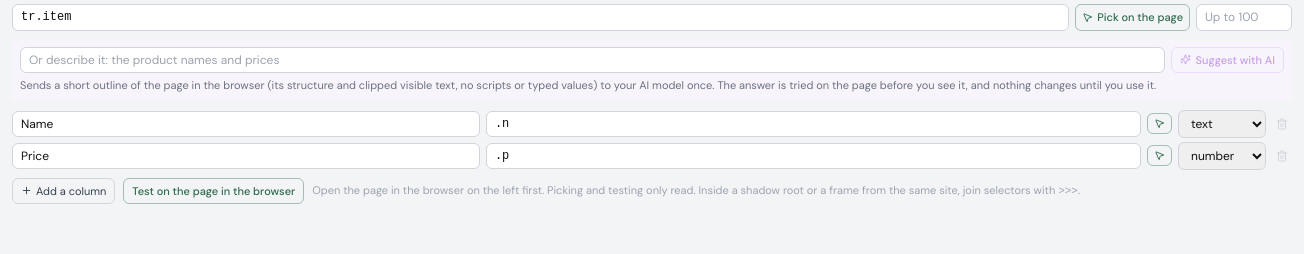
Test: ScrapeEditor › shows a refusal in words
Click the button "Test on the page in the browser" at (214, 191), box [123, 178, 304, 204]
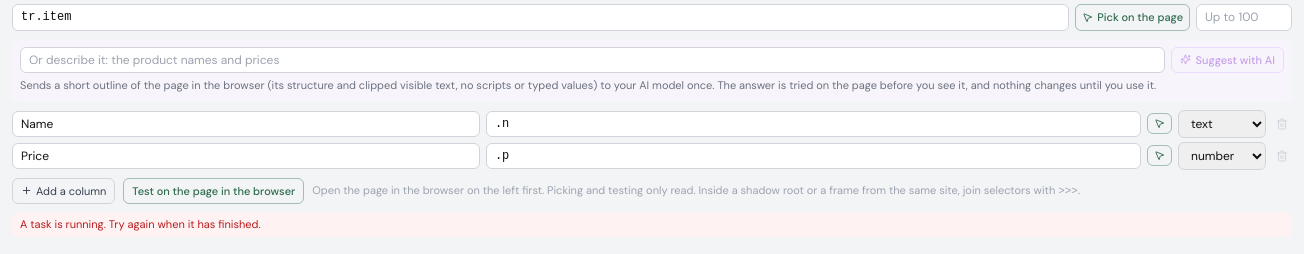
Expected: the message shows "A task is running", [20, 217, 261, 231]
